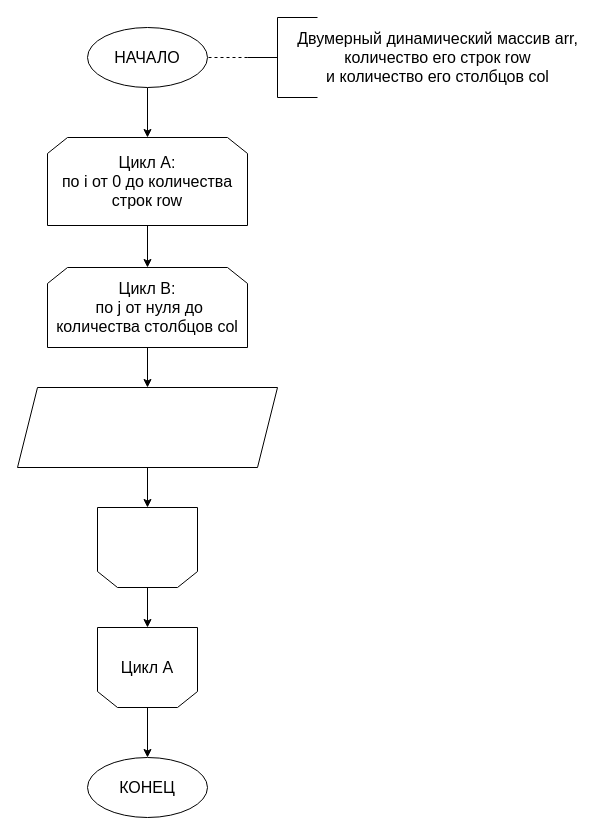
This 605x835 diagram has some shape labels left out. The shapes that lost their labels are listed below. From the top down, each one's centre as x and y in pixels, then its label:
At pixel 147 427: "Ввод элемента массива arr под индексами i и j".
At pixel 147 547: "Цикл В".
